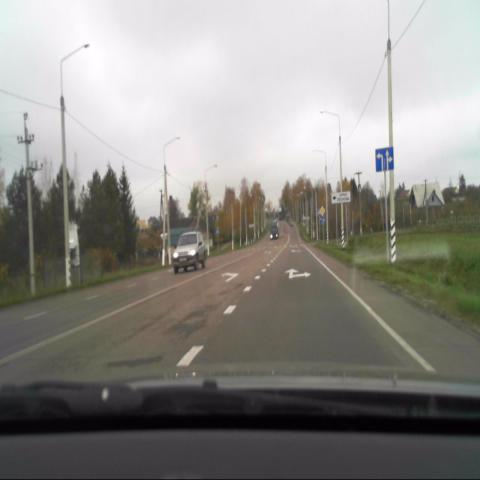2_1: (318, 205, 326, 216)
5_15_2_2: (374, 147, 394, 172)
